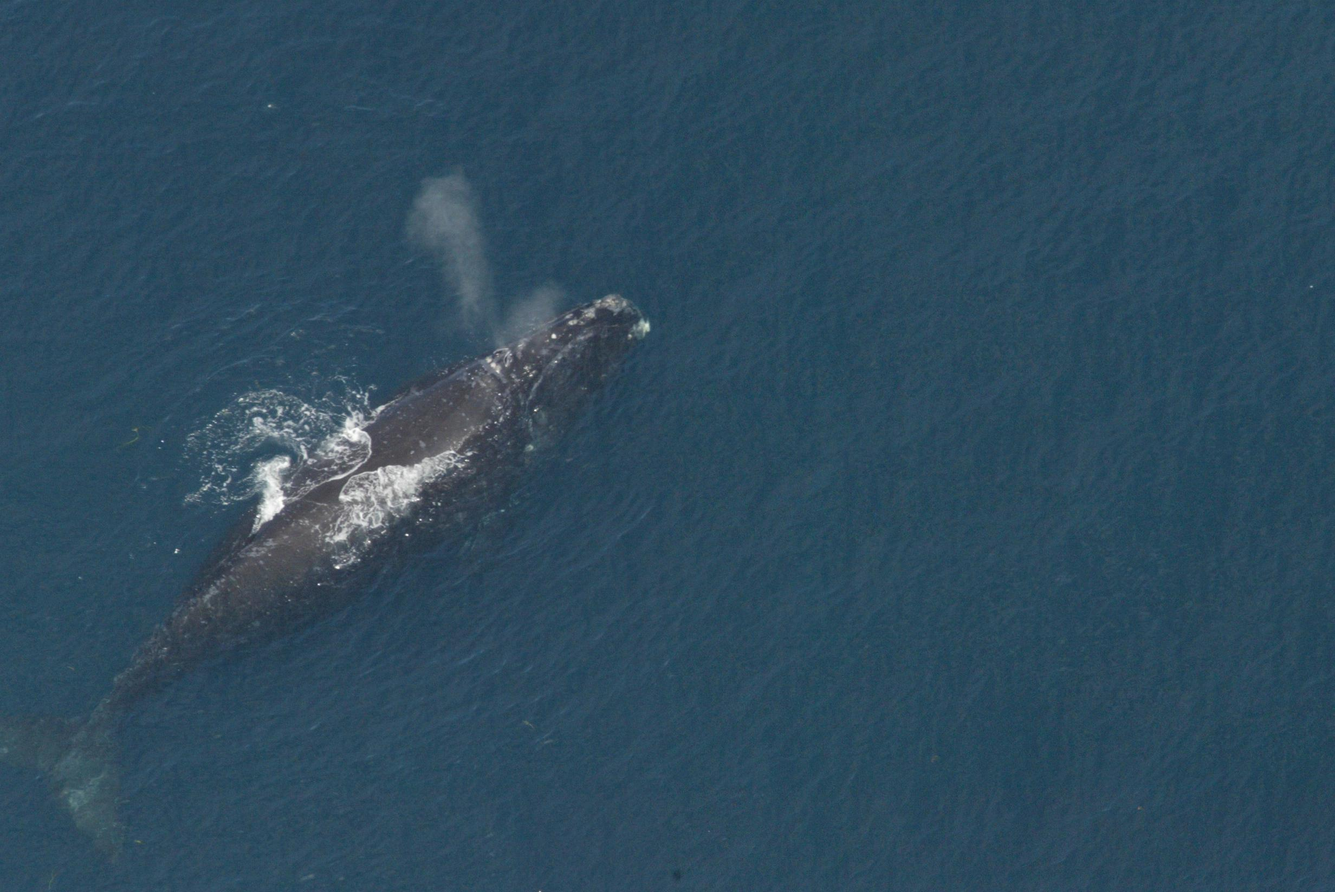whale: (1, 287, 658, 877)
